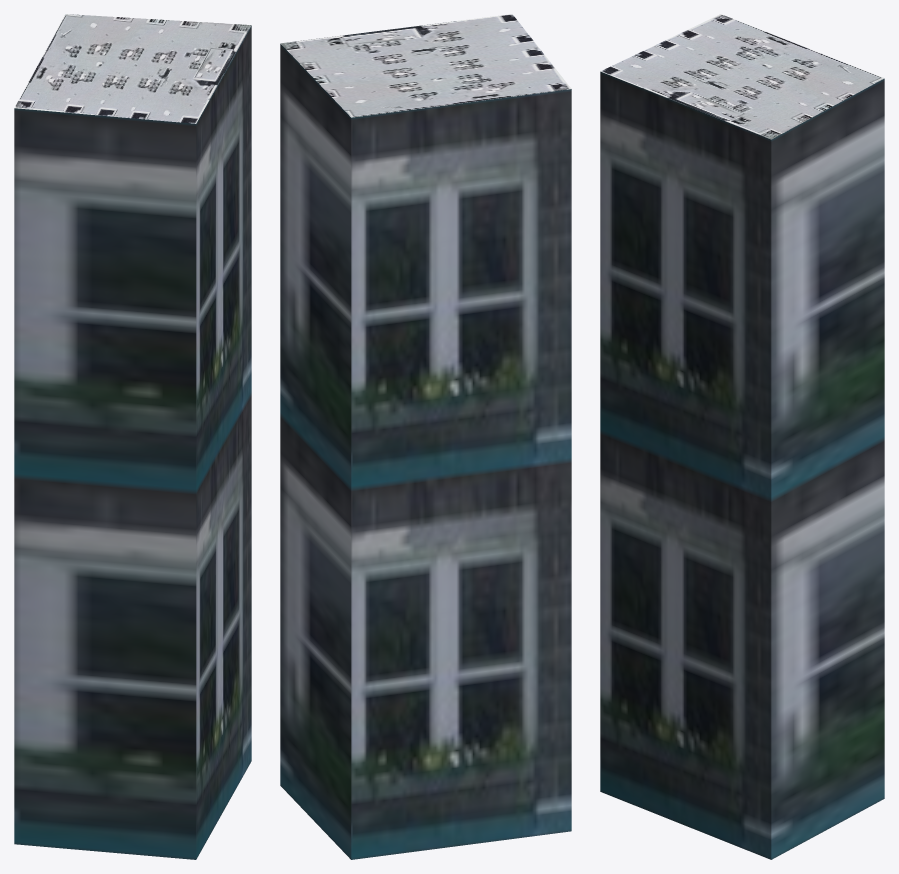
Rendered from ResTex__1337.fbx.
The picture shows the model from 3 angles, left to right: view 1: azimuth 30°, elevation 25°; view 2: azimuth 150°, elevation 25°; view 3: azimuth 270°, elevation 25°; orthographic projection. The views are drawn at different scales.
Parts seen in each view (by area): view 1: CityEngineMaterial_11_m, CityEngineMaterial_8_m; view 2: CityEngineMaterial_11_m, CityEngineMaterial_8_m; view 3: CityEngineMaterial_11_m, CityEngineMaterial_8_m.
Part boxes in pixels (left/top/right/bottom): CityEngineMaterial_11_m: left=14, top=25, right=251, bottom=859; CityEngineMaterial_8_m: left=14, top=14, right=251, bottom=123; CityEngineMaterial_11_m: left=280, top=44, right=571, bottom=859; CityEngineMaterial_8_m: left=280, top=14, right=571, bottom=117; CityEngineMaterial_11_m: left=600, top=71, right=884, bottom=859; CityEngineMaterial_8_m: left=600, top=14, right=884, bottom=139.
Bounding box in the file's own units: 2.24 × 6 × 2.15.
2 materials, 2 textured.
